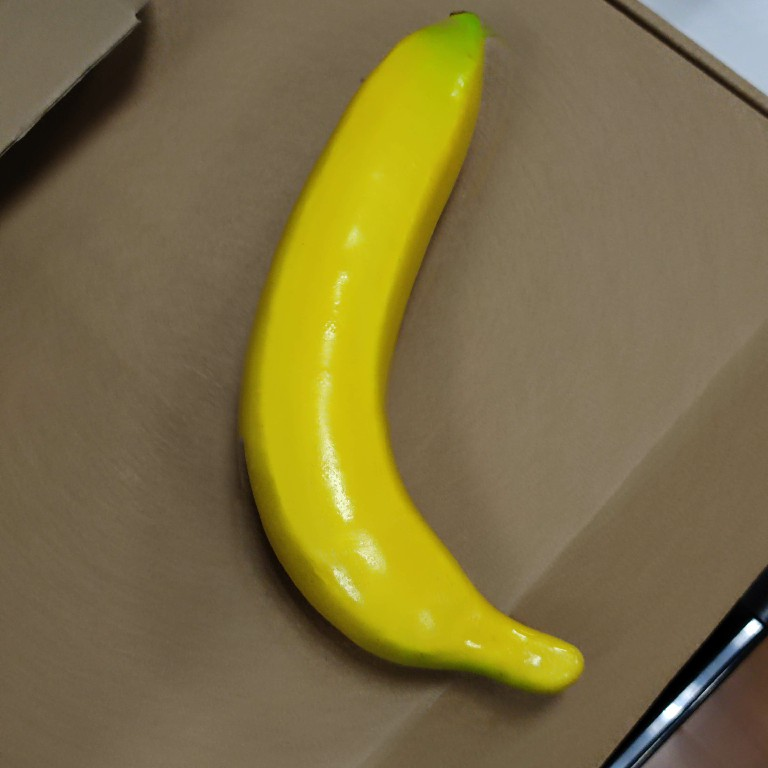fruit_banana: (227, 9, 591, 699)
